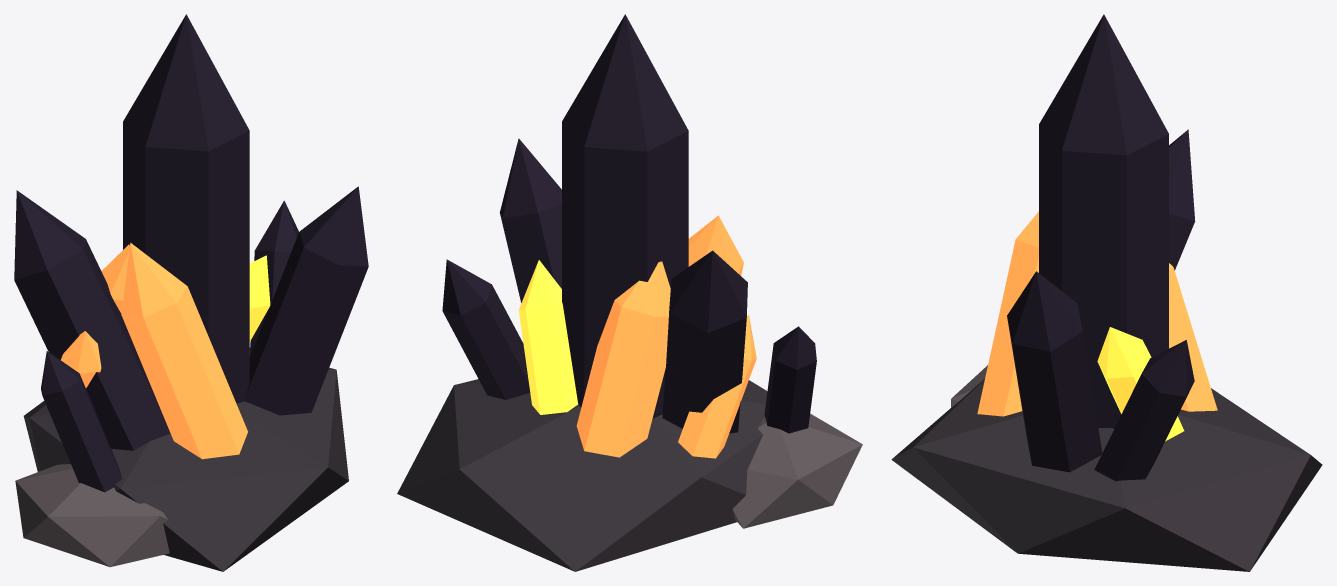
Rendered from CrystalCluster.fbx.
3 renders of one model, left to right at view 1: azimuth 30°, elevation 25°; view 2: azimuth 150°, elevation 25°; view 3: azimuth 270°, elevation 25°, orthographic. The views are drawn at different scales.
Parts seen in each view (by area): view 1: CrystalCluster_Obsidian, CrystalCluster_Basalt, CrystalCluster_Ember, CrystalCluster_BasaltLight, CrystalCluster_Lava; view 2: CrystalCluster_Obsidian, CrystalCluster_Basalt, CrystalCluster_Ember, CrystalCluster_BasaltLight, CrystalCluster_Lava; view 3: CrystalCluster_Obsidian, CrystalCluster_Basalt, CrystalCluster_Ember, CrystalCluster_Lava.
Part boxes in pixels (x1,y1,x2,y2): CrystalCluster_Obsidian: [14, 14, 368, 492]; CrystalCluster_Basalt: [23, 347, 348, 571]; CrystalCluster_Ember: [61, 242, 247, 459]; CrystalCluster_BasaltLight: [15, 464, 169, 567]; CrystalCluster_Lava: [249, 255, 270, 341]; CrystalCluster_Obsidian: [442, 14, 816, 433]; CrystalCluster_Basalt: [397, 379, 767, 571]; CrystalCluster_Ember: [576, 215, 756, 458]; CrystalCluster_BasaltLight: [732, 413, 862, 528]; CrystalCluster_Lava: [518, 260, 578, 414]; CrystalCluster_Obsidian: [1007, 14, 1195, 481]; CrystalCluster_Basalt: [891, 379, 1322, 571]; CrystalCluster_Ember: [977, 211, 1217, 416]; CrystalCluster_Lava: [1097, 327, 1184, 441].
Bounding box in the file's own units: 10.02 × 12.81 × 10.45.
